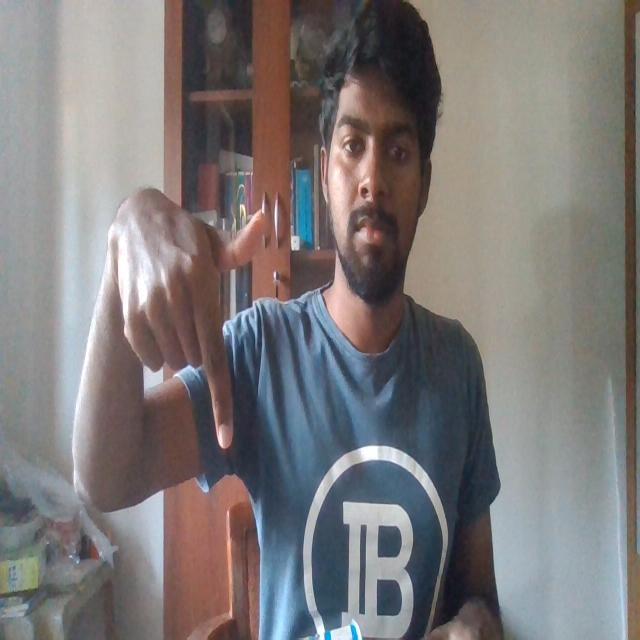Yes: (101, 173, 278, 458)
